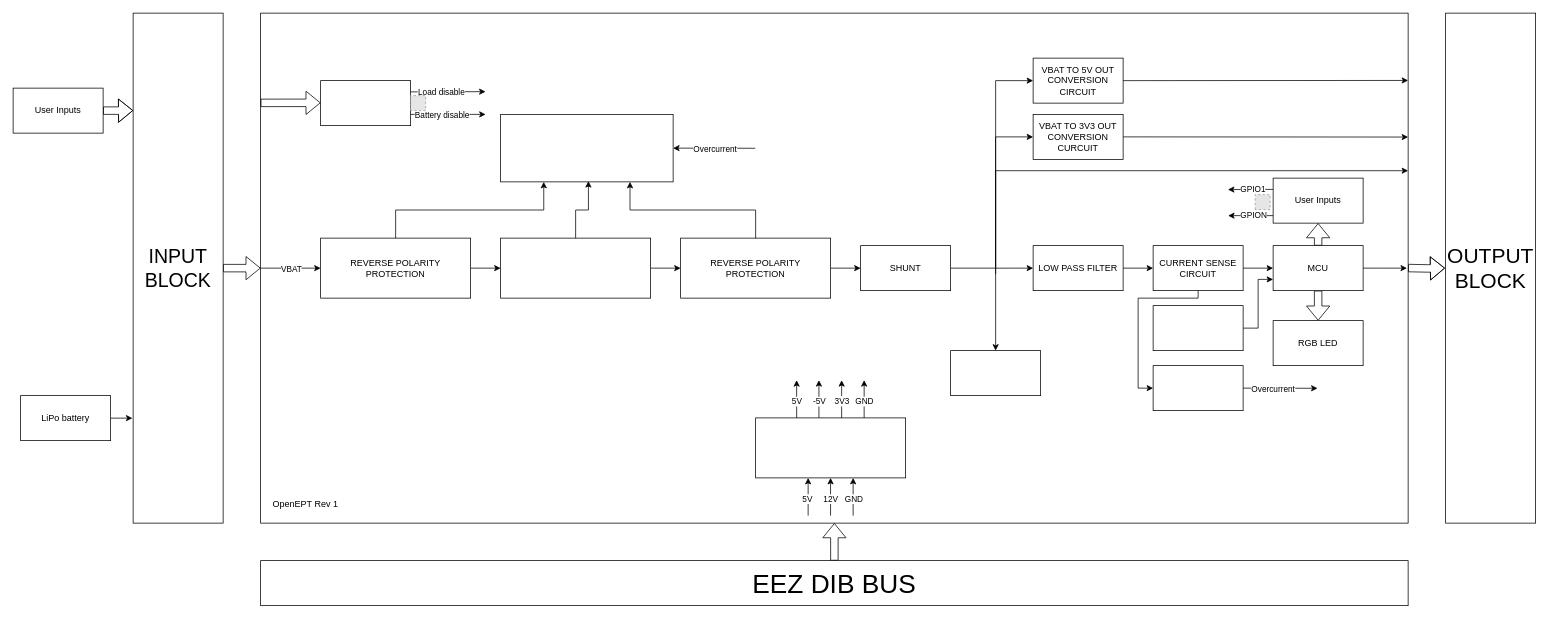
This 1549x619 diagram has some shape labels left out. Grey dashed boxes stand in for pictures. Here are the shapes that lost their labels. From the top down, the box of each, then its label:
(320, 80, 411, 126): USER JUMPERS
(500, 114, 673, 182): STATE INDICATION CIRCUIT
(500, 237, 651, 298): OVERVOLTAGE PROTECTION
(1152, 305, 1243, 351): BATTERY VOLTAGE SENSE CIRCUIT
(950, 350, 1041, 396): CURRENT SINK
(1152, 365, 1243, 411): OVERCURRENT PROTECTION
(755, 417, 906, 478): CIRCUIT POWER SUPPLY
